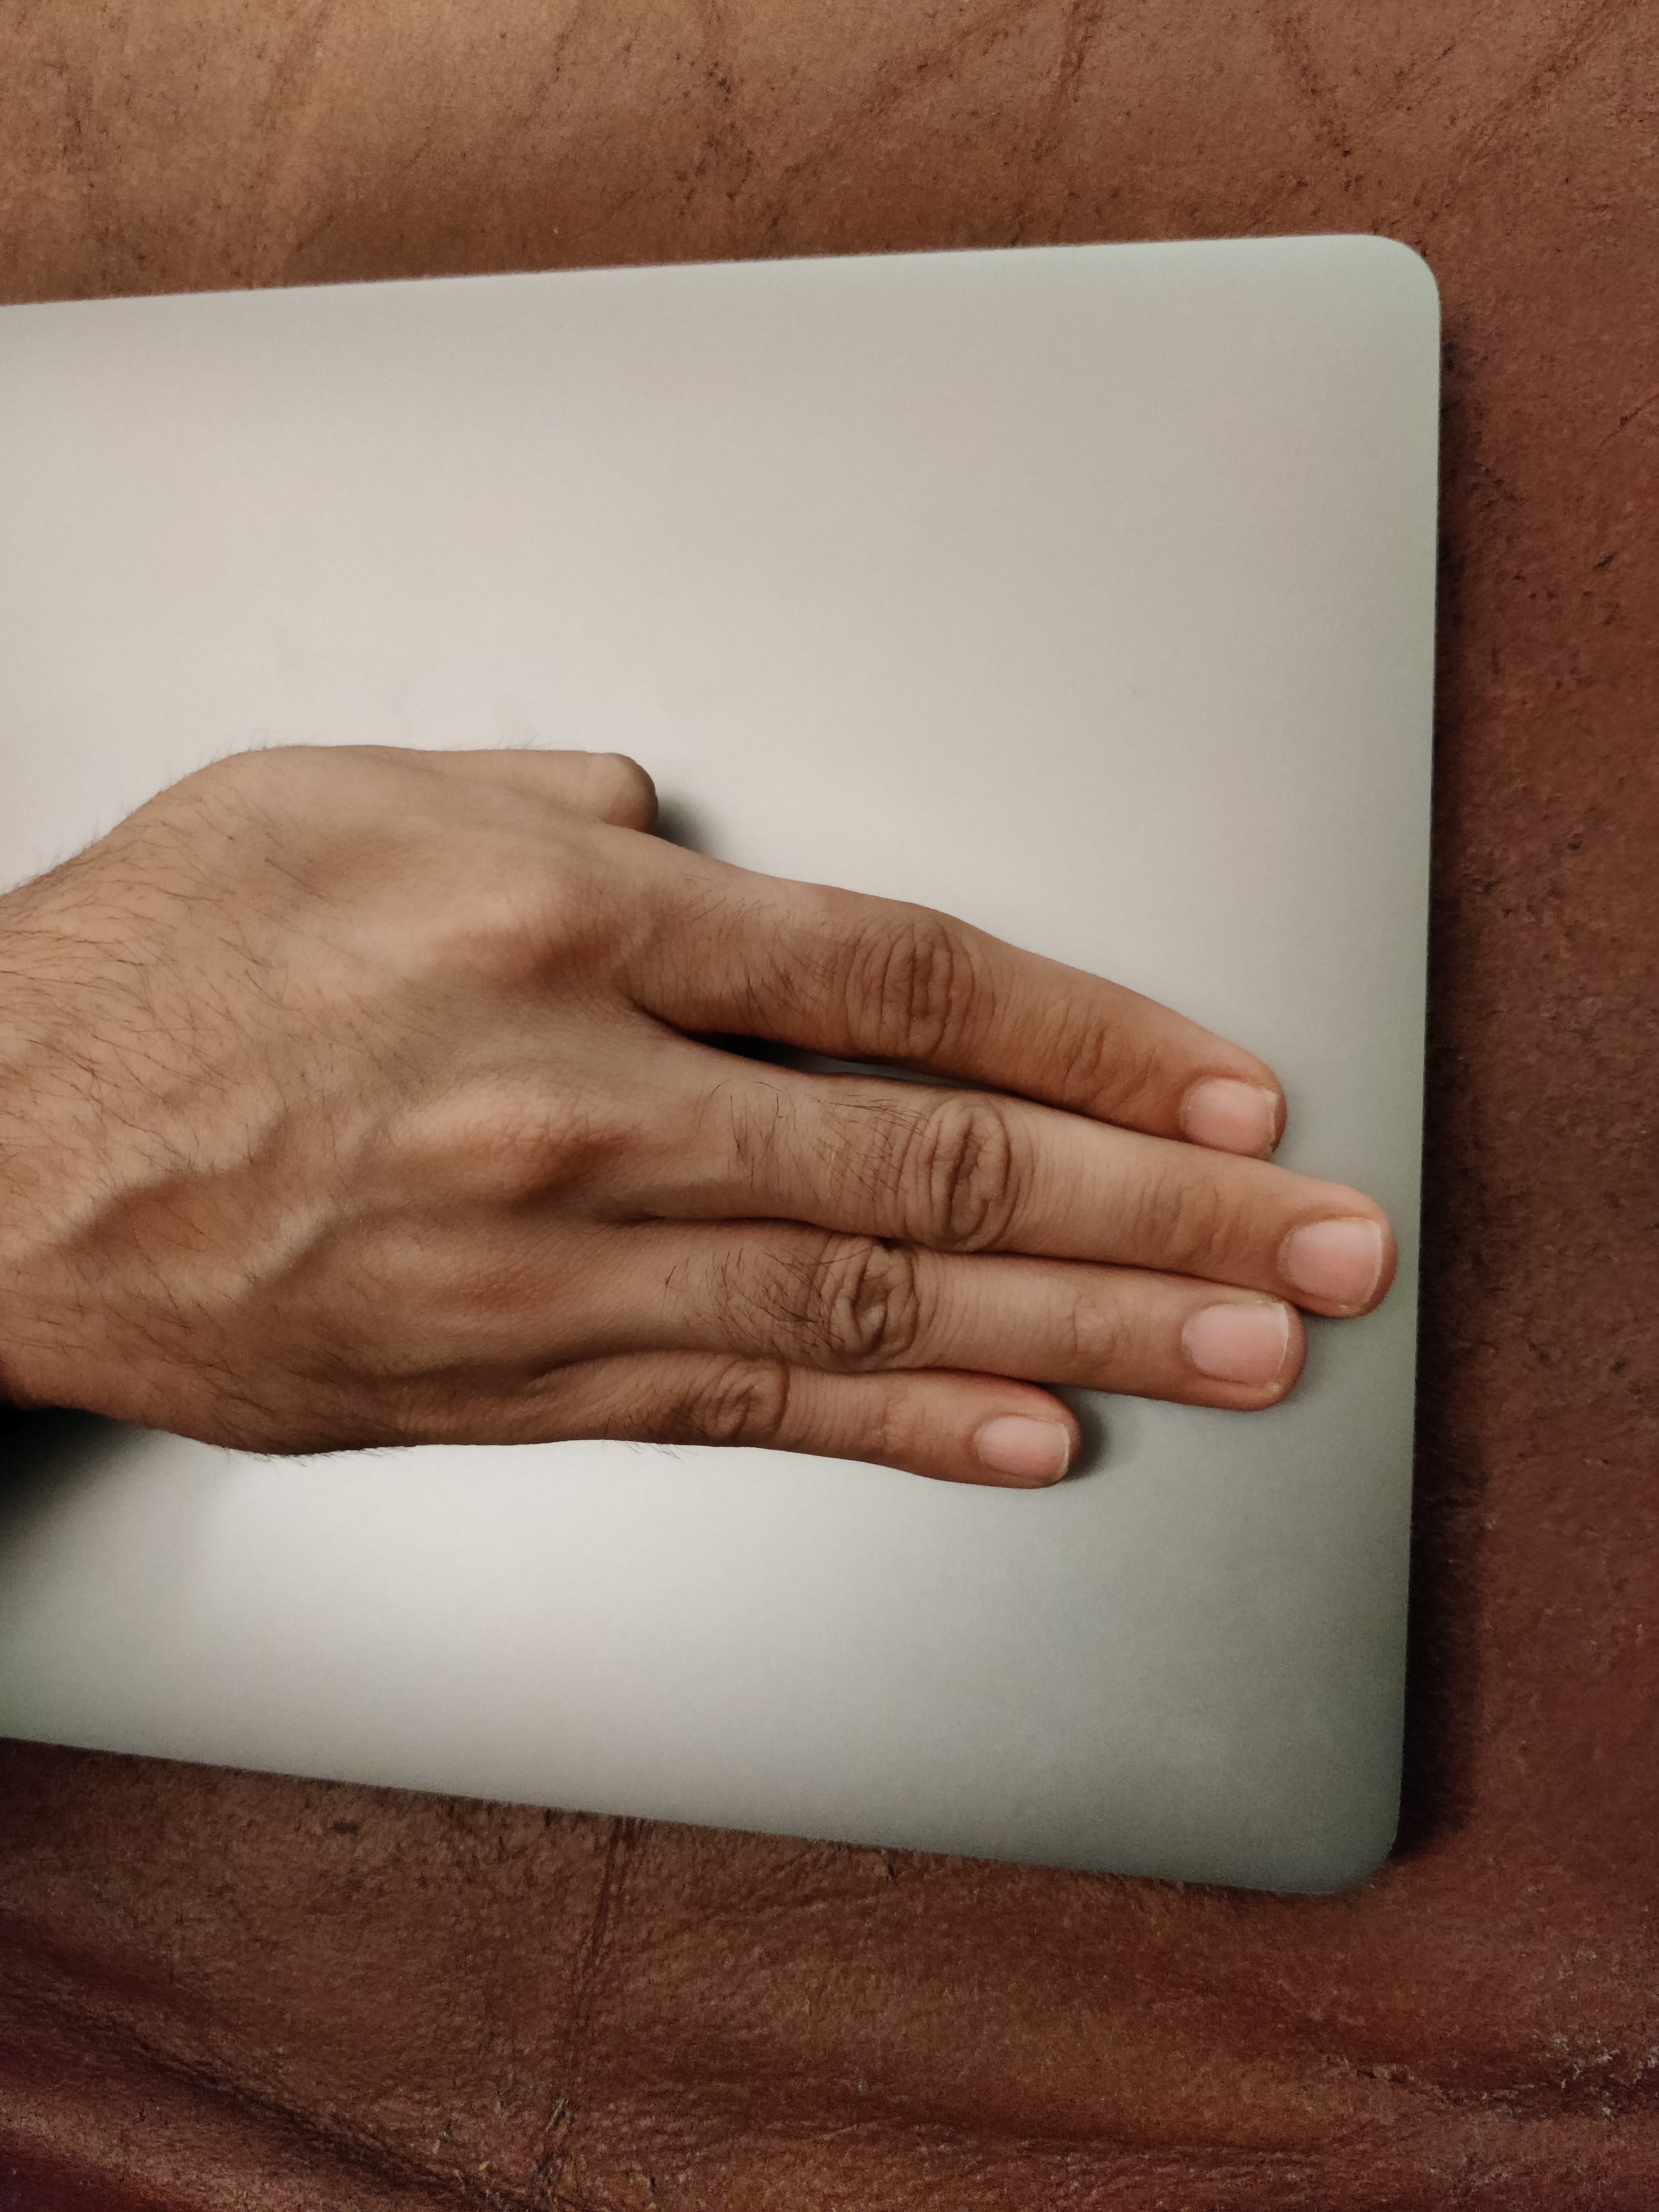left: (30, 432, 1453, 1662)
